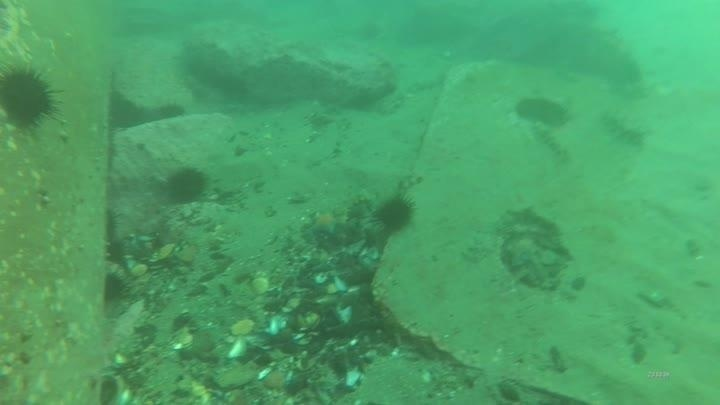echinus: (1, 62, 62, 131), (162, 164, 210, 206), (373, 193, 417, 235), (104, 268, 131, 307), (100, 230, 127, 269), (95, 202, 122, 241), (156, 96, 186, 122), (108, 98, 138, 124)
holothurian: (598, 108, 650, 149), (530, 122, 573, 167)
starfish: (305, 206, 345, 239)
